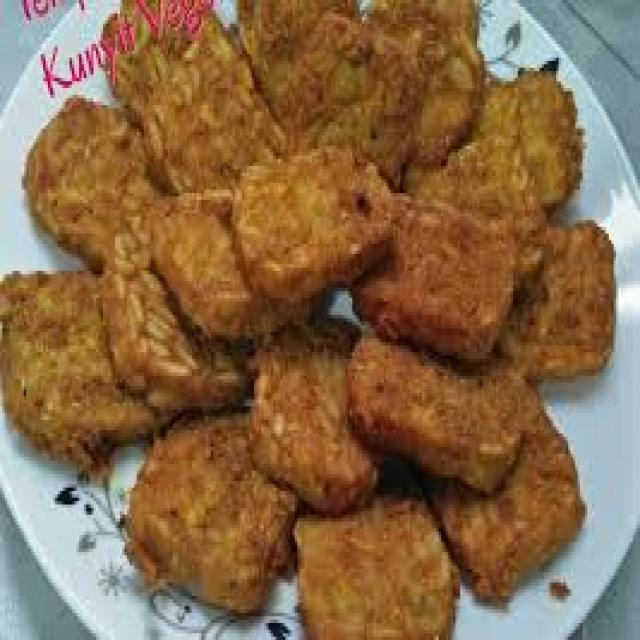Tempe Goreng: (50, 9, 587, 620)
